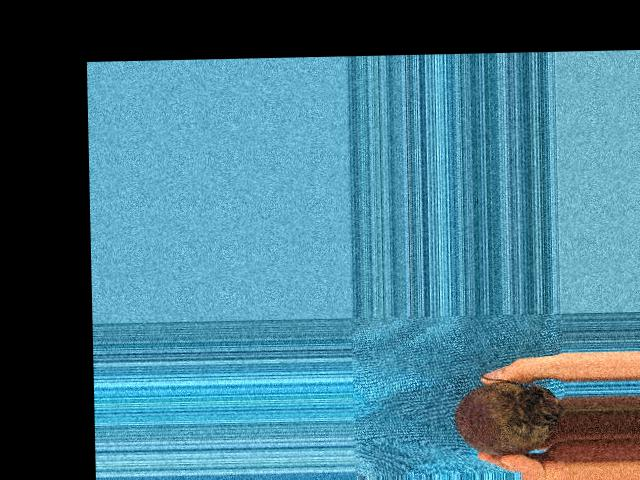beet: (453, 371, 564, 456)
